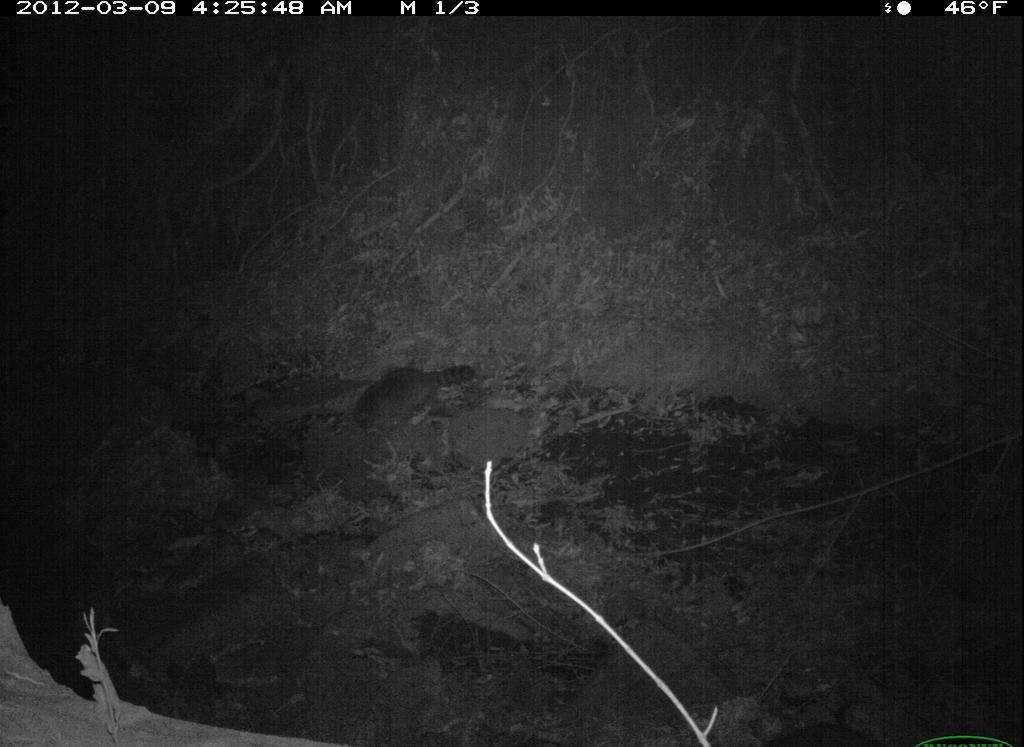raccoon: (347, 354, 481, 441)
